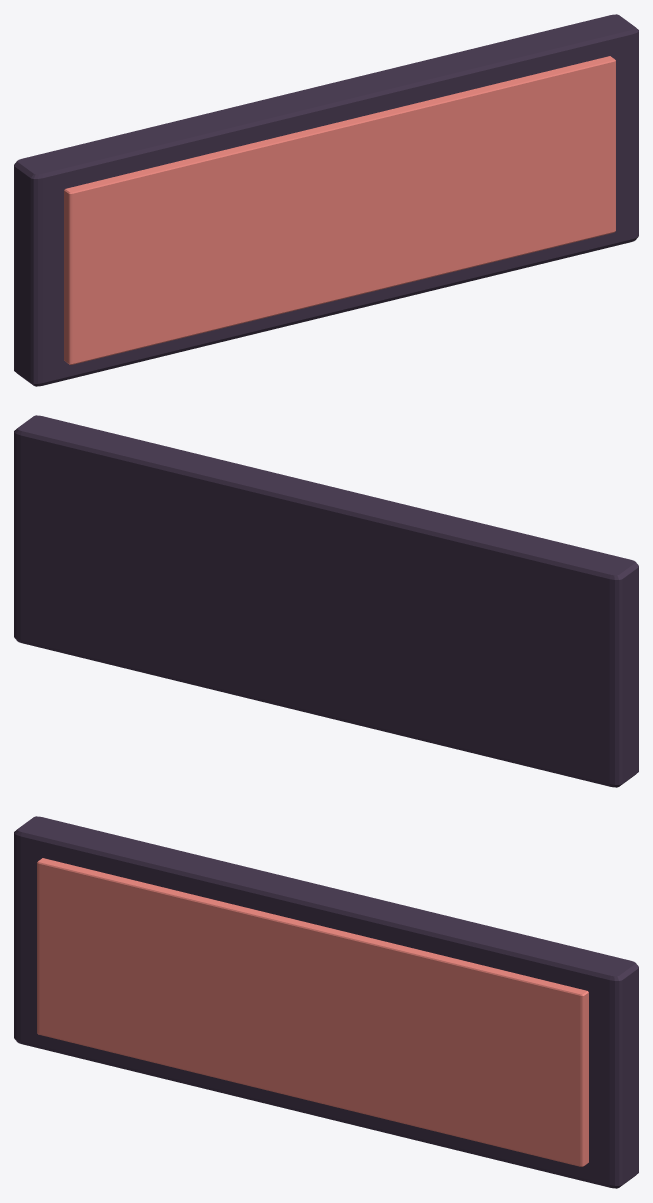
The model's file is shop_sign_blank.glb.
3 views of the same model, one above another, from view 1: azimuth 30°, elevation 25°; view 2: azimuth 150°, elevation 25°; view 3: azimuth 330°, elevation 25° (orthographic).
Visible parts, largest first — view 1: panel, frame; view 2: frame; view 3: panel, frame.
Part boxes in pixels (x1,y1,x2,y2): panel: (64, 56, 615, 364); frame: (14, 14, 638, 386); frame: (14, 415, 638, 787); panel: (37, 858, 588, 1166); frame: (14, 816, 638, 1188).
Size of the model in its own units: 1.5 by 0.5 by 0.12.
